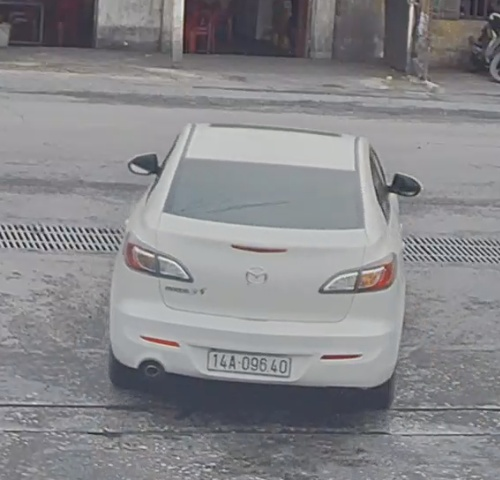vehicle plate: (206, 341, 298, 382)
